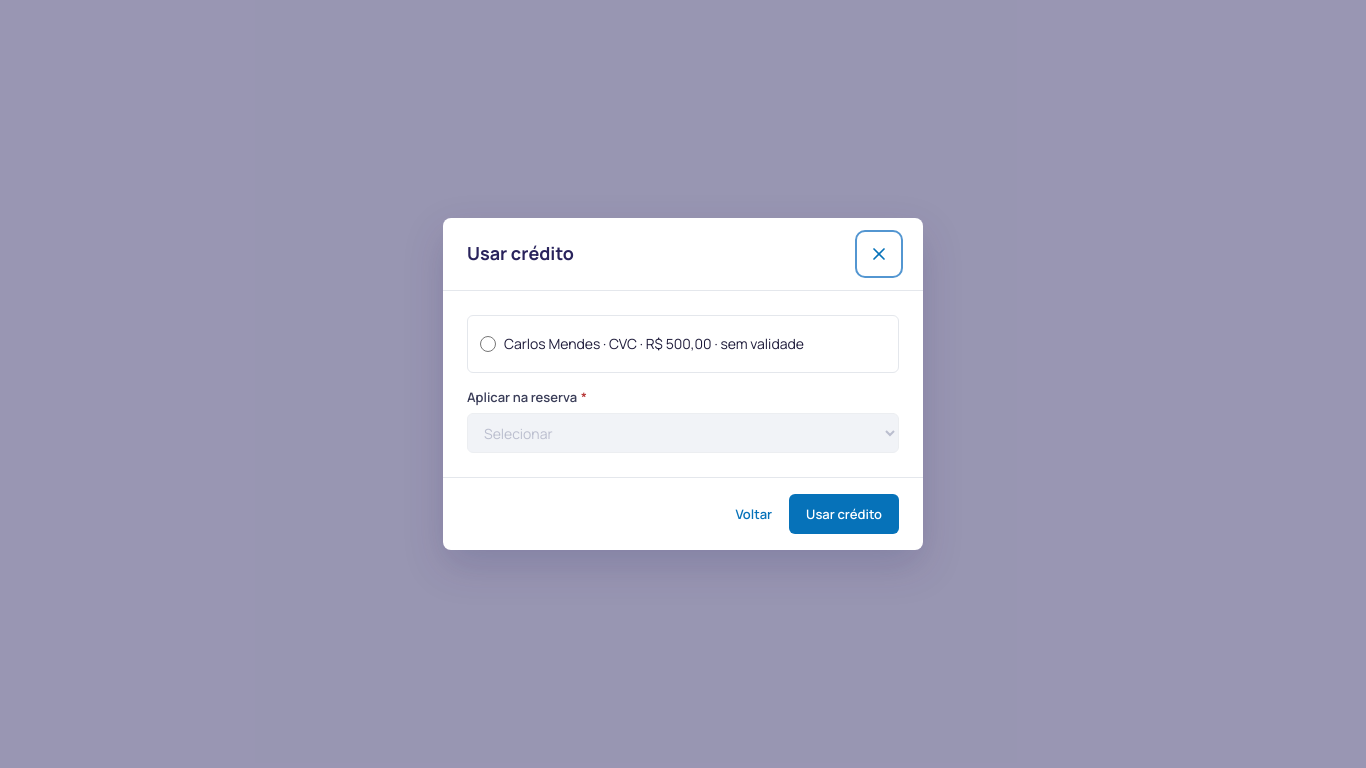
it: X01: crédito sem reserva ativa da mesma operadora mostra aviso e não oferece Select
This screenshot has width=1366, height=768.
Click the radio button labelled "Carlos Mendes · CVC · R$ 500,00 · sem validade": [488, 344] box [480,336,496,352]
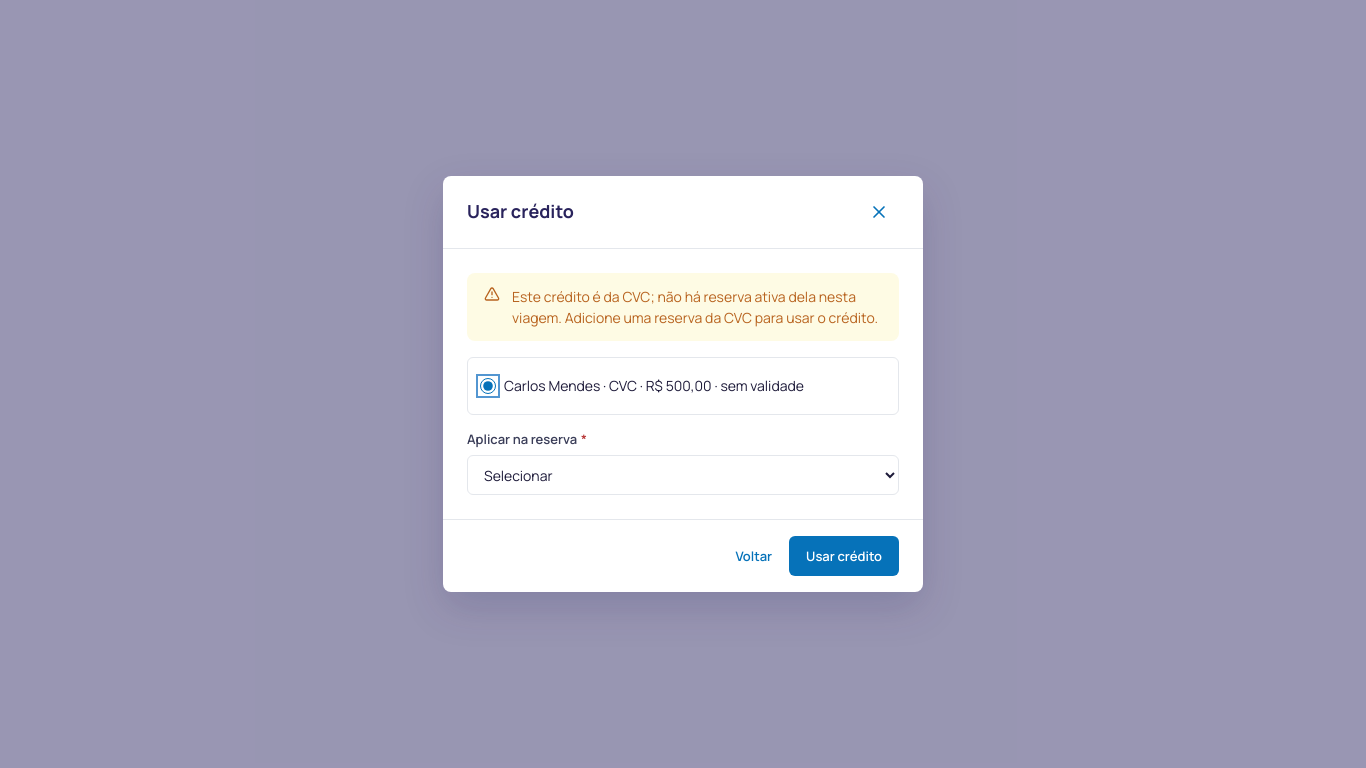
Expected: the text "Este crédito é da CVC; não há reserva ativa dela nesta viagem. Adicione uma reserva da CVC para usar o crédito." is shown, [512,286,882,328]
